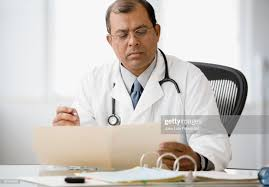Indian_Male: (106, 1, 162, 67)
